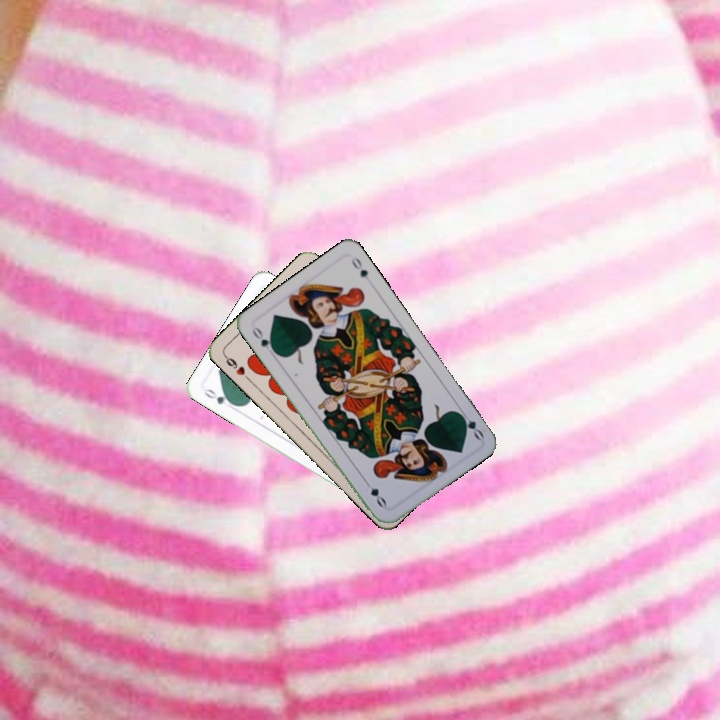GO: (454, 406, 487, 443), (248, 322, 279, 356), (200, 384, 238, 408)
H9: (220, 351, 252, 383)
